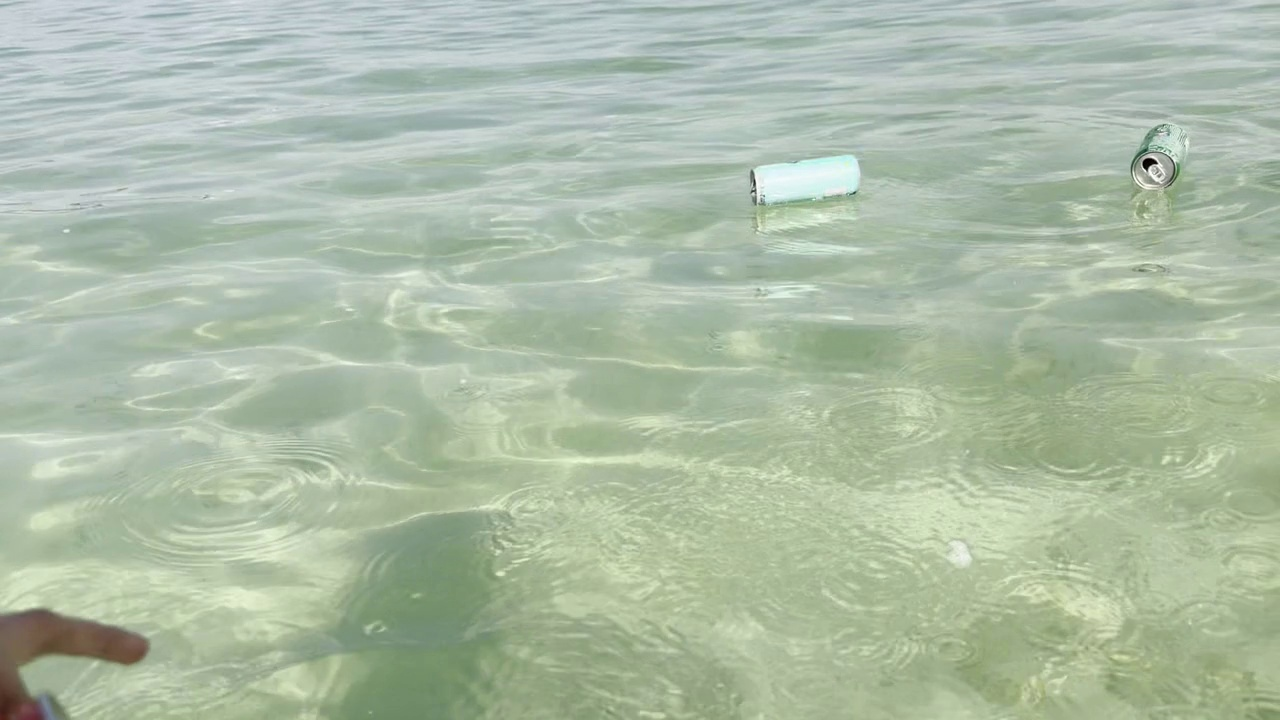debris: (1118, 120, 1209, 192), (747, 154, 872, 205)
